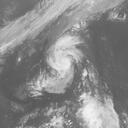cyclone: (47, 34, 84, 71)
